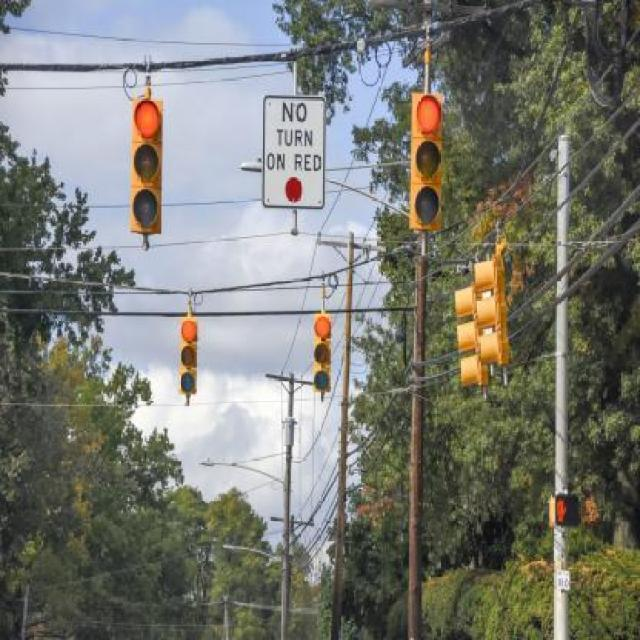red_light: (407, 72, 447, 240), (128, 90, 166, 230), (132, 83, 166, 239), (179, 316, 201, 409)
